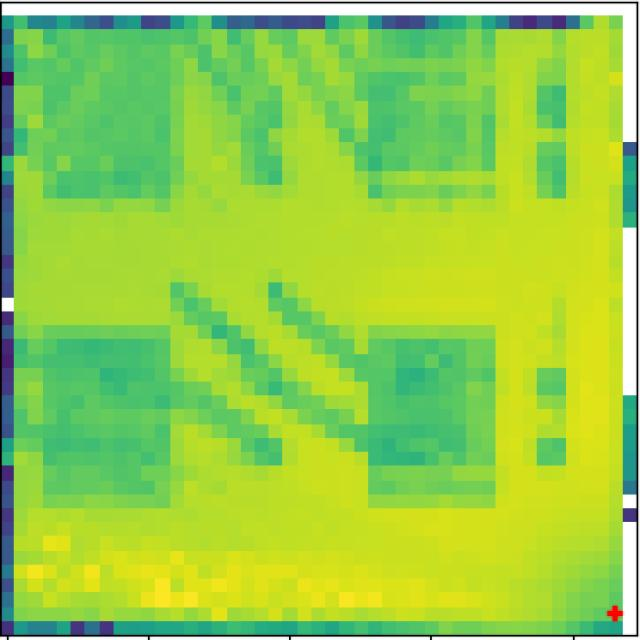Concrete: (45, 33, 182, 210)
Glass: (42, 324, 174, 510)
Metal: (367, 32, 500, 198)
Wood: (370, 323, 496, 507)
